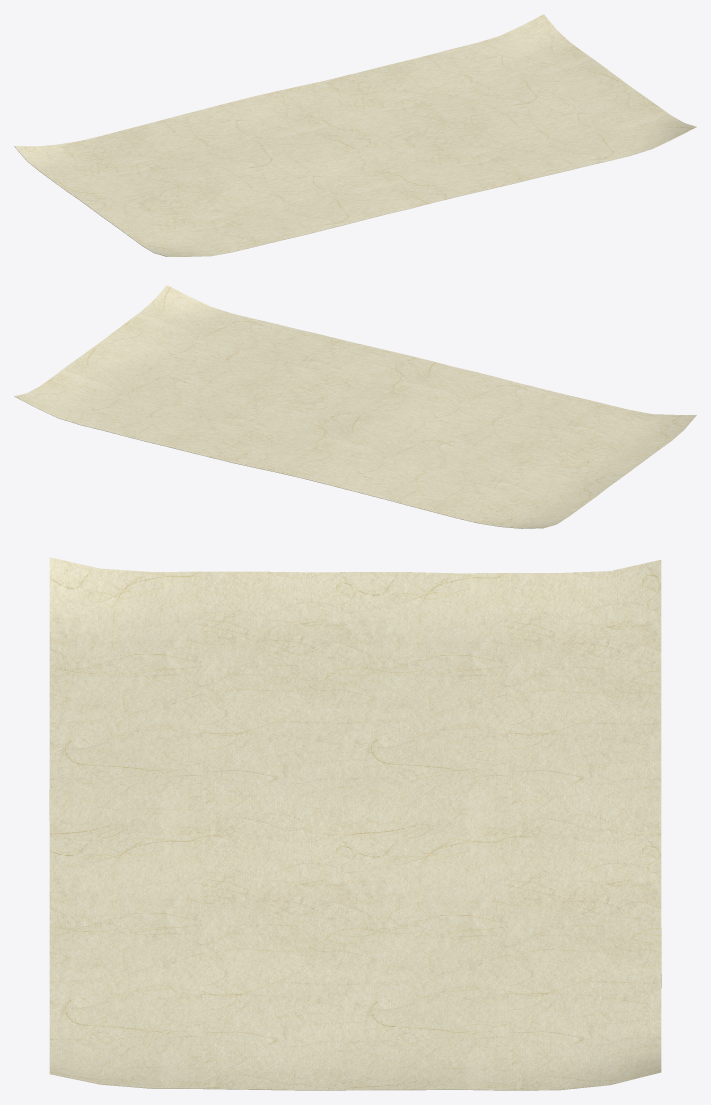
3 renders of one model, top to bottom at view 1: azimuth 30°, elevation 25°; view 2: azimuth 150°, elevation 25°; view 3: azimuth 270°, elevation 25°, orthographic. The views are drawn at different scales.
Parts seen in each view (by area): view 1: Plane001; view 2: Plane001; view 3: Plane001.
Part boxes in pixels (x1=…): Plane001: x1=14, y1=14, x2=696, y2=256; Plane001: x1=14, y1=285, x2=696, y2=528; Plane001: x1=49, y1=557, x2=661, y2=1090.
Size of the model in its own units: 40 by 1.06 by 20.
1 material, 1 textured.
